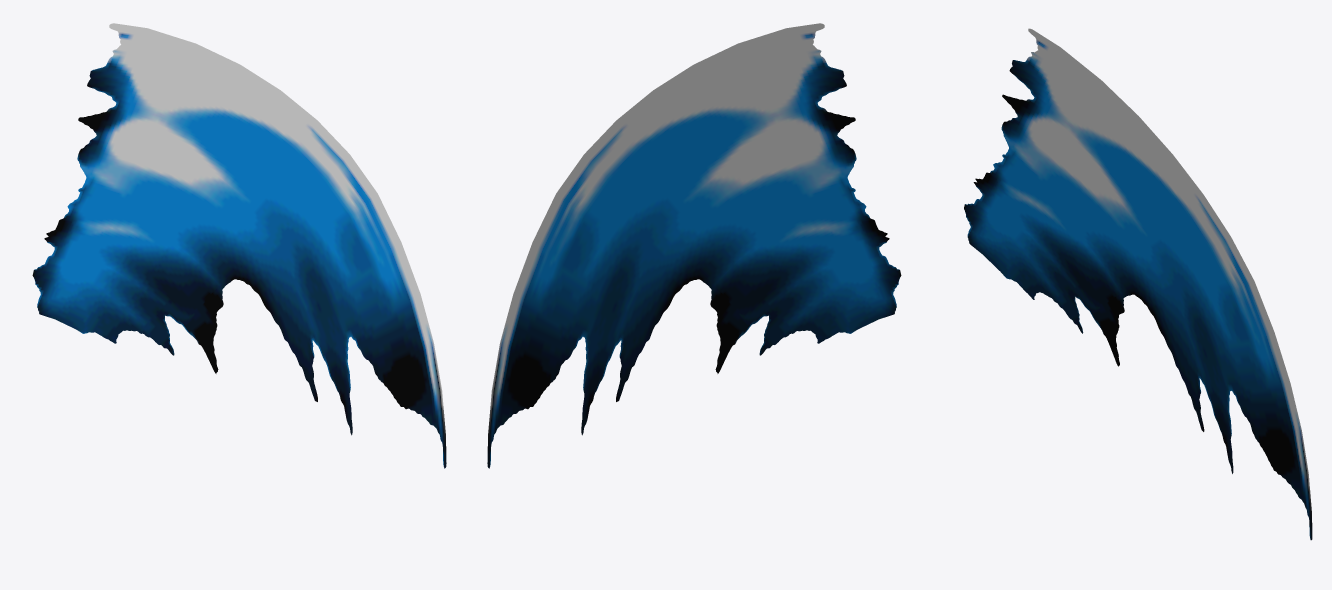
The model's file is Fbx_Dg_fsw_012.FBX.
3 renders of one model, left to right at view 1: azimuth 30°, elevation 25°; view 2: azimuth 150°, elevation 25°; view 3: azimuth 330°, elevation 25°, orthographic. The views are drawn at different scales.
Parts seen in each view (by area): view 1: Fbx_Dg_fsw_012; view 2: Fbx_Dg_fsw_012; view 3: Fbx_Dg_fsw_012.
Part boxes in pixels (x1=…): Fbx_Dg_fsw_012: x1=32, y1=23, x2=446, y2=468; Fbx_Dg_fsw_012: x1=487, y1=23, x2=901, y2=468; Fbx_Dg_fsw_012: x1=964, y1=28, x2=1312, y2=540.
Bounding box in the file's own units: 13175 × 16659 × 0.00554.
